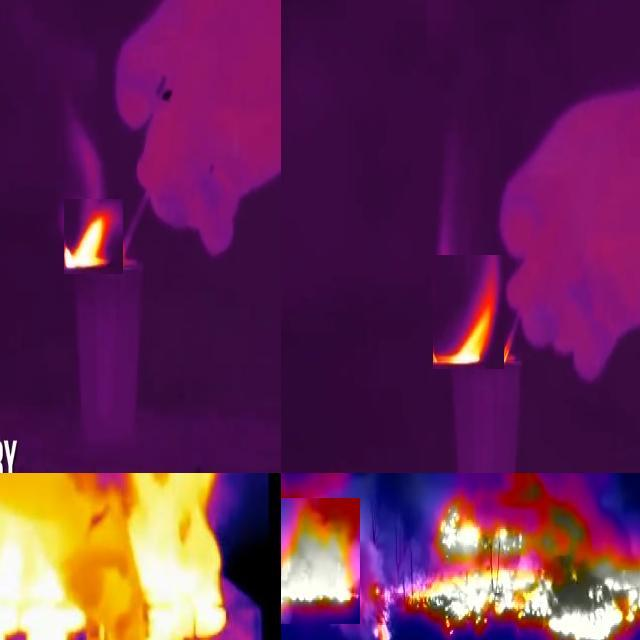fire: (374, 493, 640, 640), (130, 474, 224, 640), (1, 499, 92, 637), (282, 499, 361, 625), (434, 256, 505, 370), (65, 200, 124, 275)
